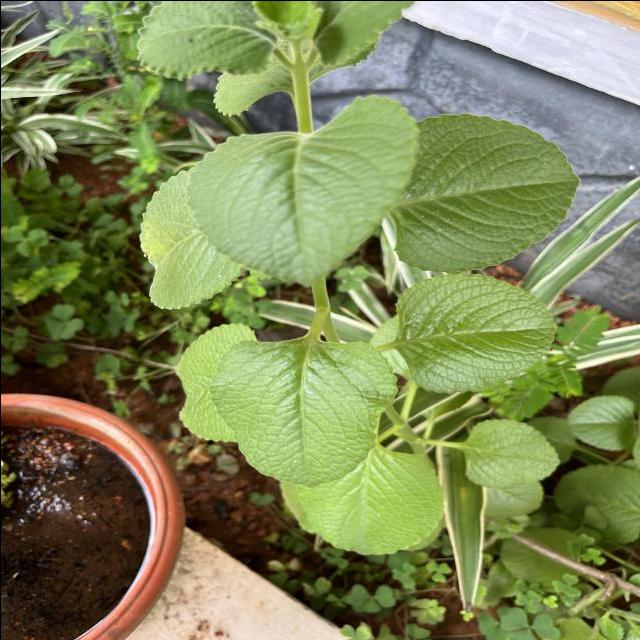Plectranthus barbatus: (182, 92, 422, 290), (388, 111, 582, 274), (206, 336, 398, 486), (394, 272, 554, 394), (294, 443, 444, 557), (552, 461, 640, 544), (460, 416, 560, 489), (566, 392, 636, 452)
